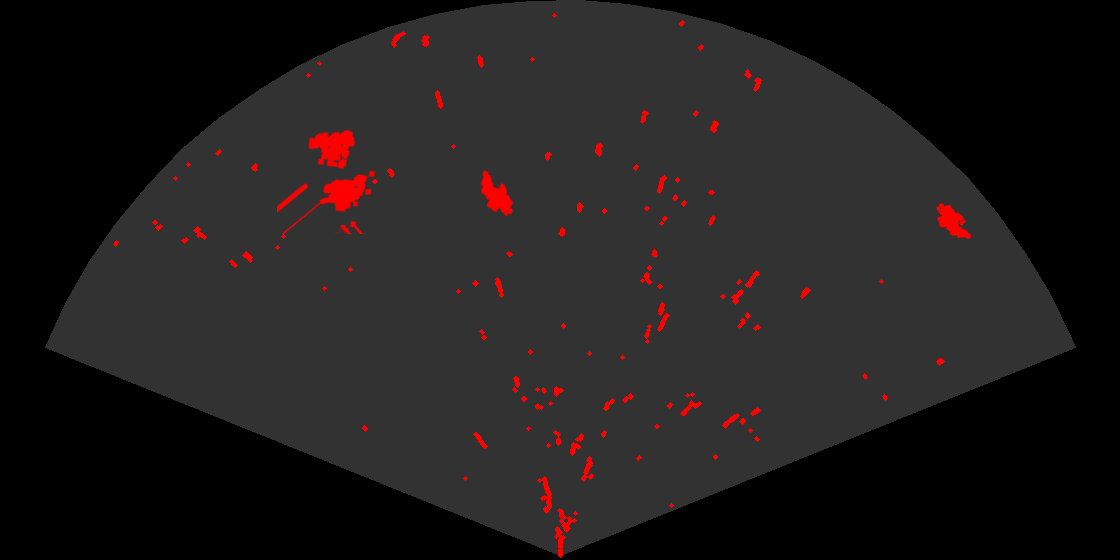AUV: (479, 169, 515, 218), (935, 202, 973, 240)
cage: (277, 128, 377, 234)
